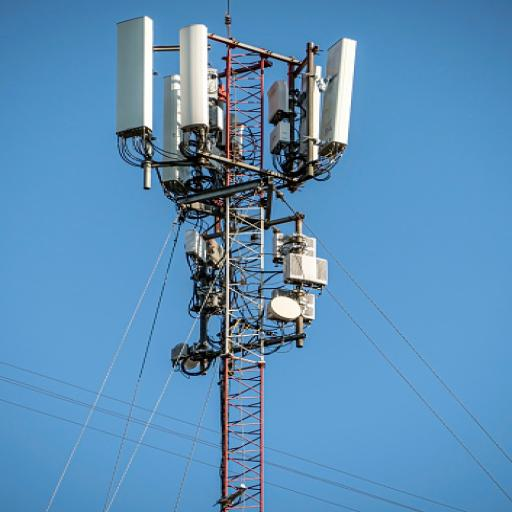supporting_tower: (114, 14, 356, 512)
